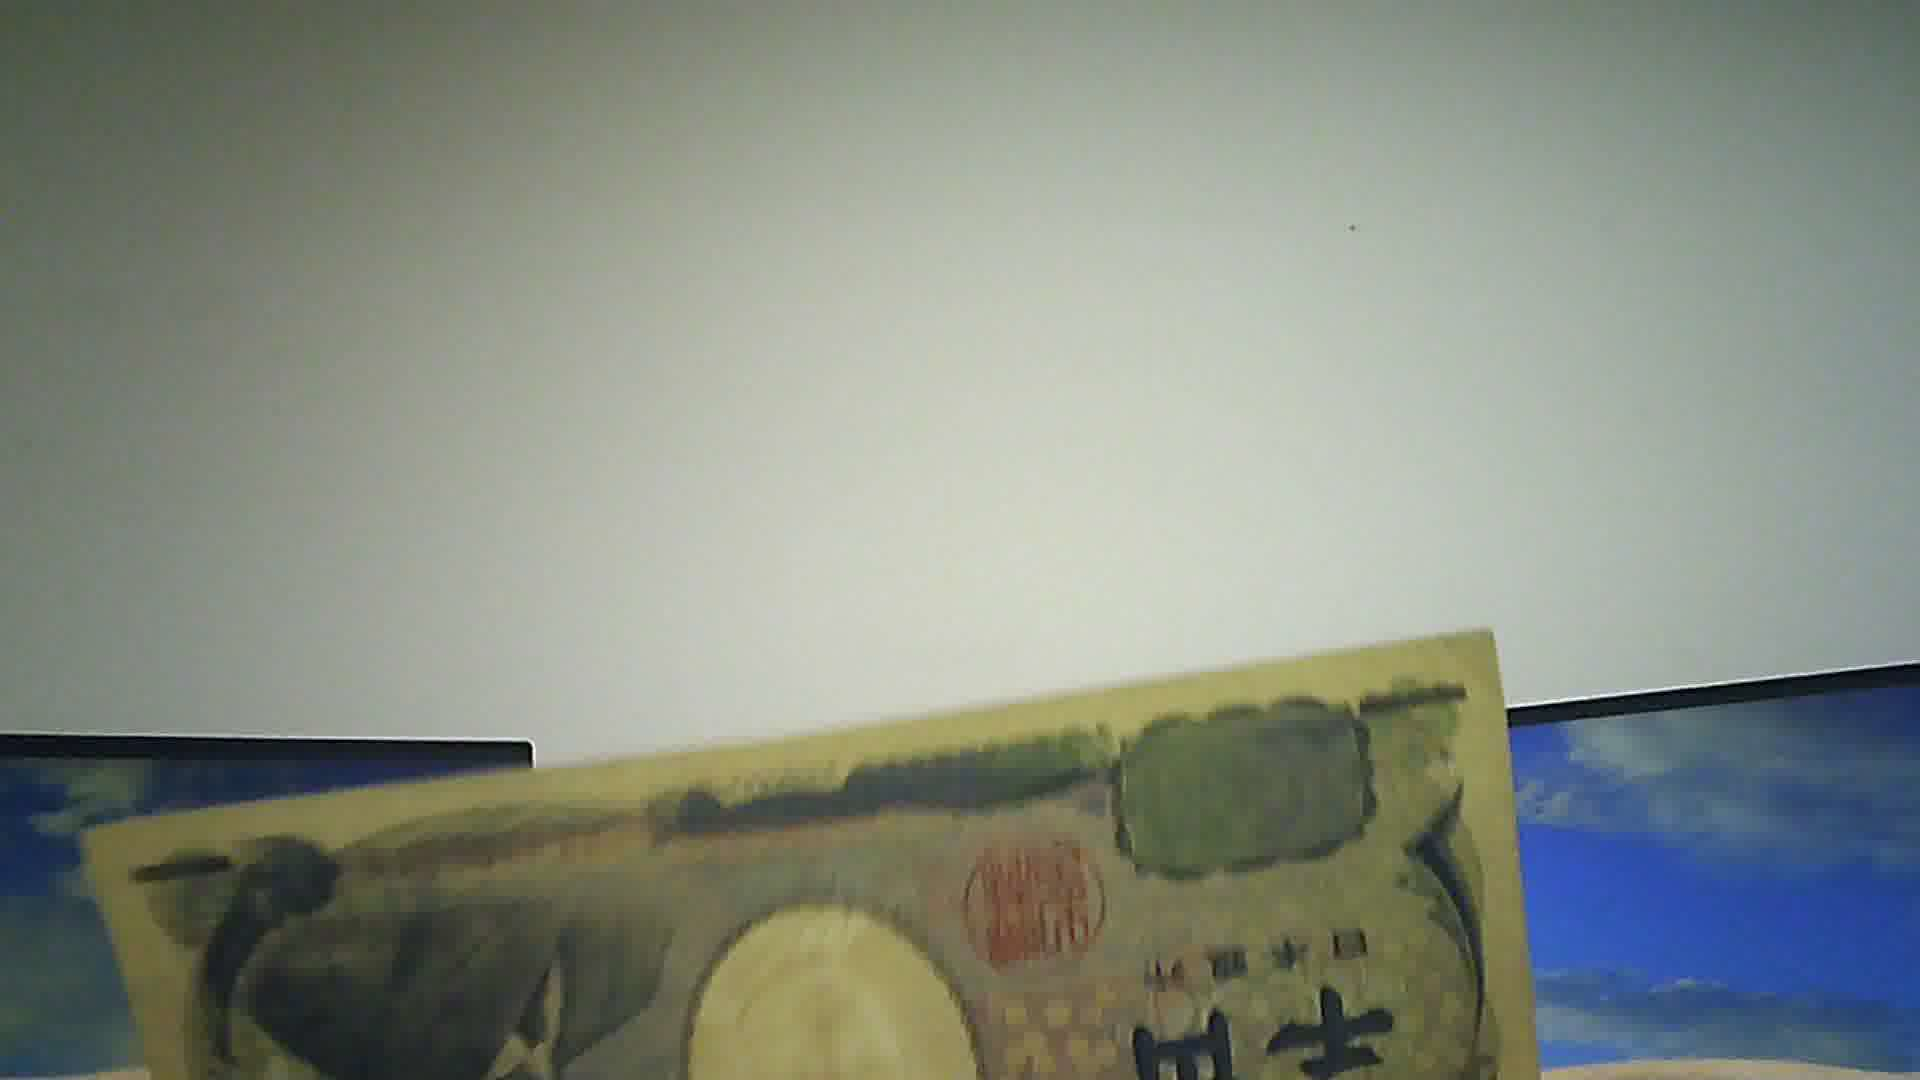1,000 Yen: (88, 587, 1547, 1072)
